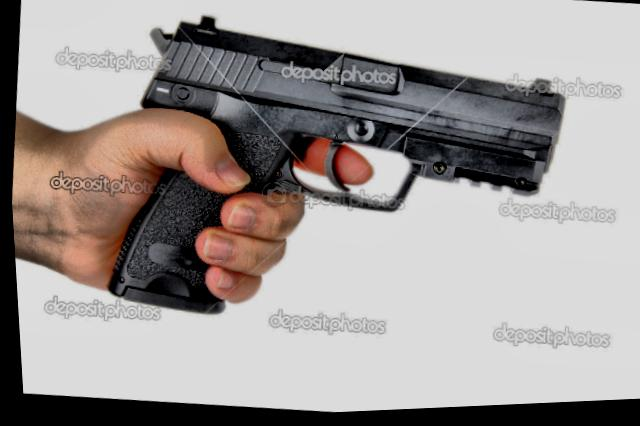pistol: (75, 0, 583, 352)
